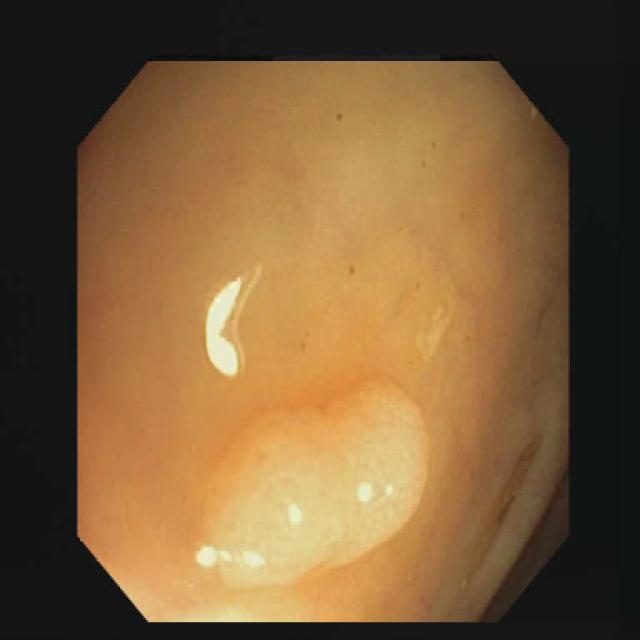tumor: (198, 391, 425, 584)
